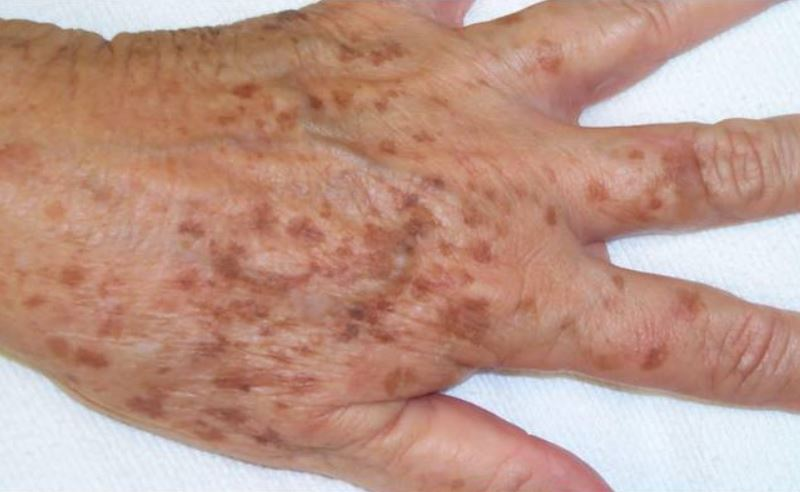DARK_SPOTS: (359, 223, 418, 284), (340, 297, 400, 351), (435, 295, 495, 347), (215, 299, 284, 334), (529, 31, 574, 82), (214, 365, 279, 395), (370, 33, 411, 74), (253, 203, 281, 254), (72, 342, 110, 379), (211, 248, 243, 291), (54, 261, 94, 292), (275, 102, 300, 146), (332, 42, 370, 70), (204, 406, 249, 429), (468, 238, 502, 268), (175, 220, 214, 246), (123, 395, 163, 420), (459, 203, 496, 229), (642, 341, 668, 376), (89, 179, 119, 209), (39, 195, 69, 224), (586, 179, 613, 211), (230, 79, 267, 101), (295, 215, 321, 246), (329, 86, 357, 114), (680, 292, 701, 327), (373, 132, 399, 160), (419, 173, 446, 198), (7, 144, 31, 172), (42, 334, 66, 360), (513, 297, 540, 320), (542, 202, 563, 231), (623, 140, 648, 164), (559, 314, 579, 340), (429, 91, 451, 113), (309, 89, 326, 114), (611, 272, 629, 292)
